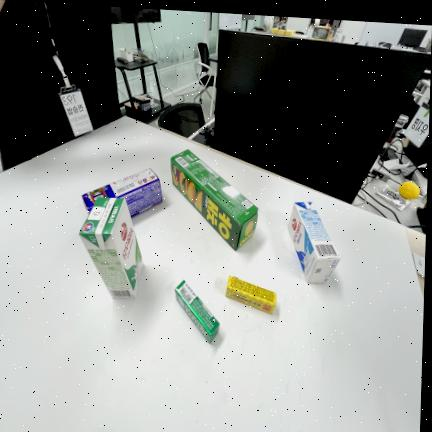cracker_ace: (82, 168, 162, 217)
cracker_vege: (171, 150, 258, 250)
gum_green: (175, 280, 219, 343)
gum_yellow: (226, 276, 276, 314)
milk_blue: (288, 201, 341, 283)
milk_green: (79, 197, 143, 297)
